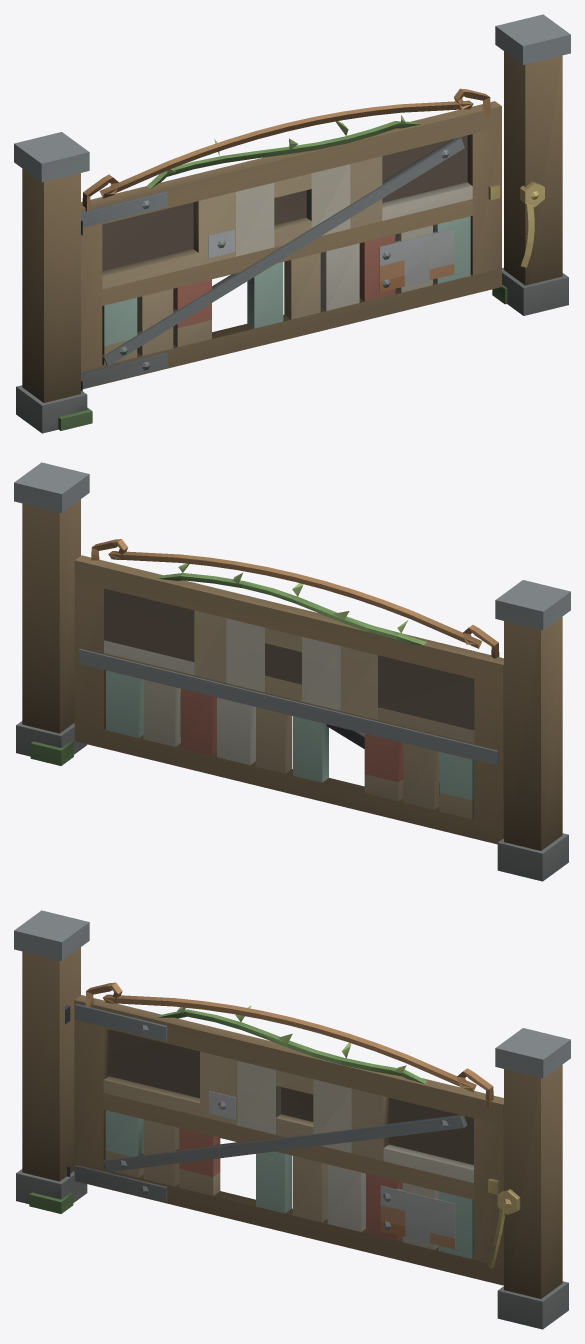
Rendered from fgate.glb.
The picture shows the model from 3 angles, top to bottom: view 1: azimuth 30°, elevation 25°; view 2: azimuth 150°, elevation 25°; view 3: azimuth 330°, elevation 25°; orthographic projection.
Parts seen in each view (by area): view 1: fgate; view 2: fgate; view 3: fgate.
Boxes of the visible parts, x1,y1,x2,y2 form: fgate: [14, 14, 570, 433]; fgate: [14, 462, 570, 881]; fgate: [14, 910, 570, 1329].
Bounding box in the file's own units: 3.98 × 1.95 × 0.492.
